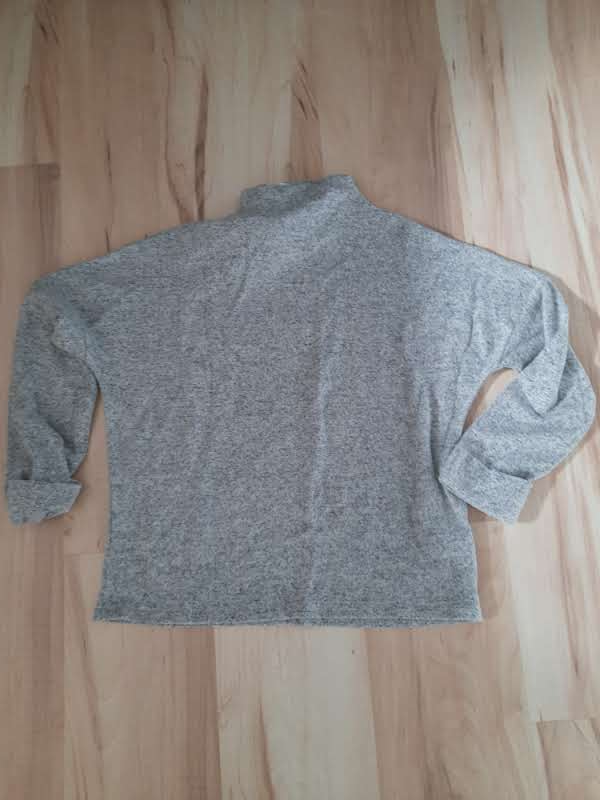clothes: (1, 176, 595, 637)
